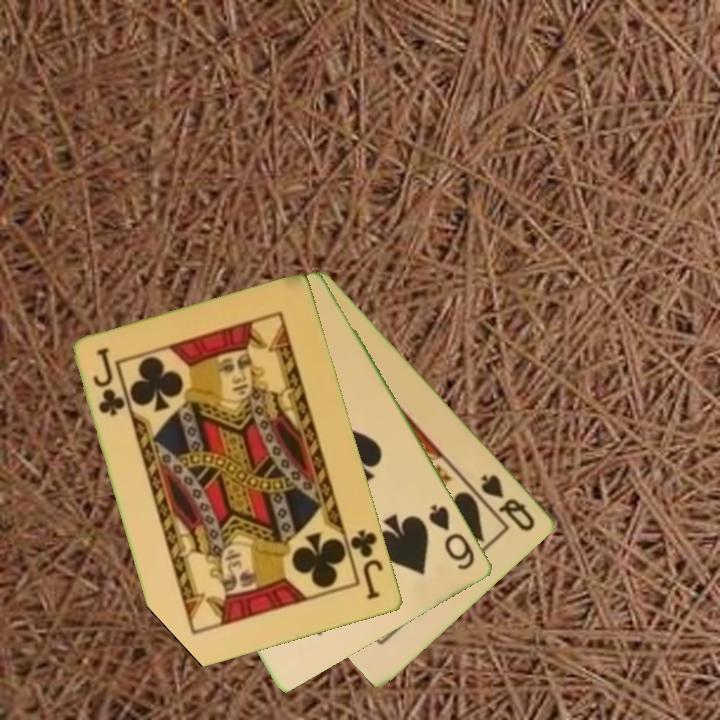6s: (425, 500, 479, 574)
Jc: (347, 526, 387, 603), (90, 344, 128, 420)
Qs: (477, 471, 539, 535)
